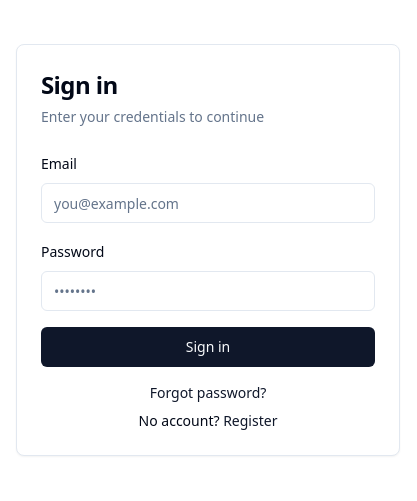
LoginPage › shows validation error for empty email before submit
Click the button "Sign in": (208, 347) 41,327 -> 375,367
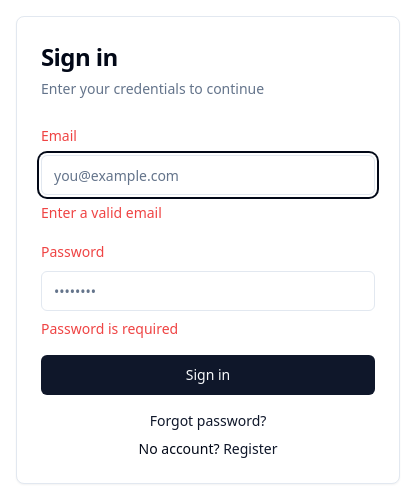
Result: the text "Enter a valid email" is shown at 41,203 -> 162,222
